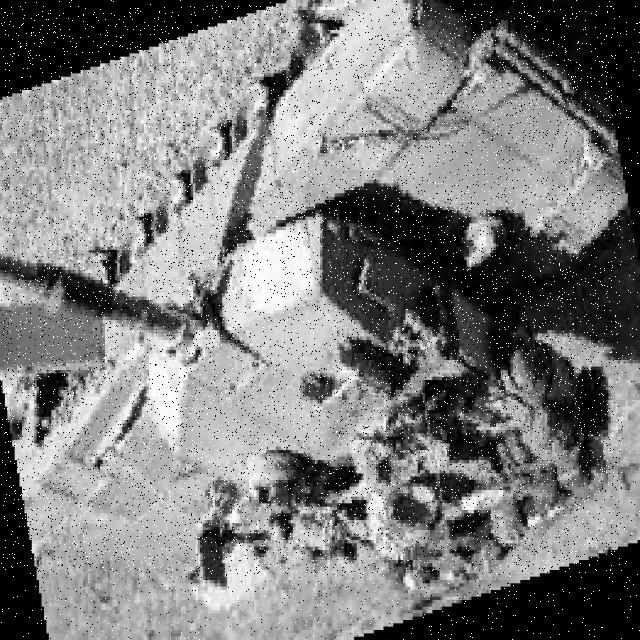MIL_MBT: (1, 6, 622, 574)
